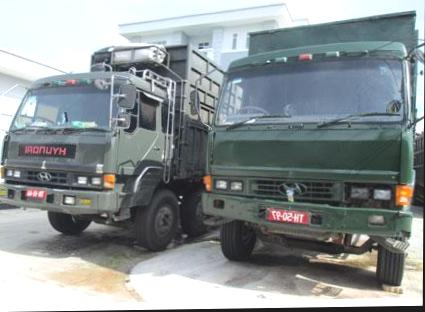License_Plate: (264, 209, 311, 227), (25, 187, 47, 201)
